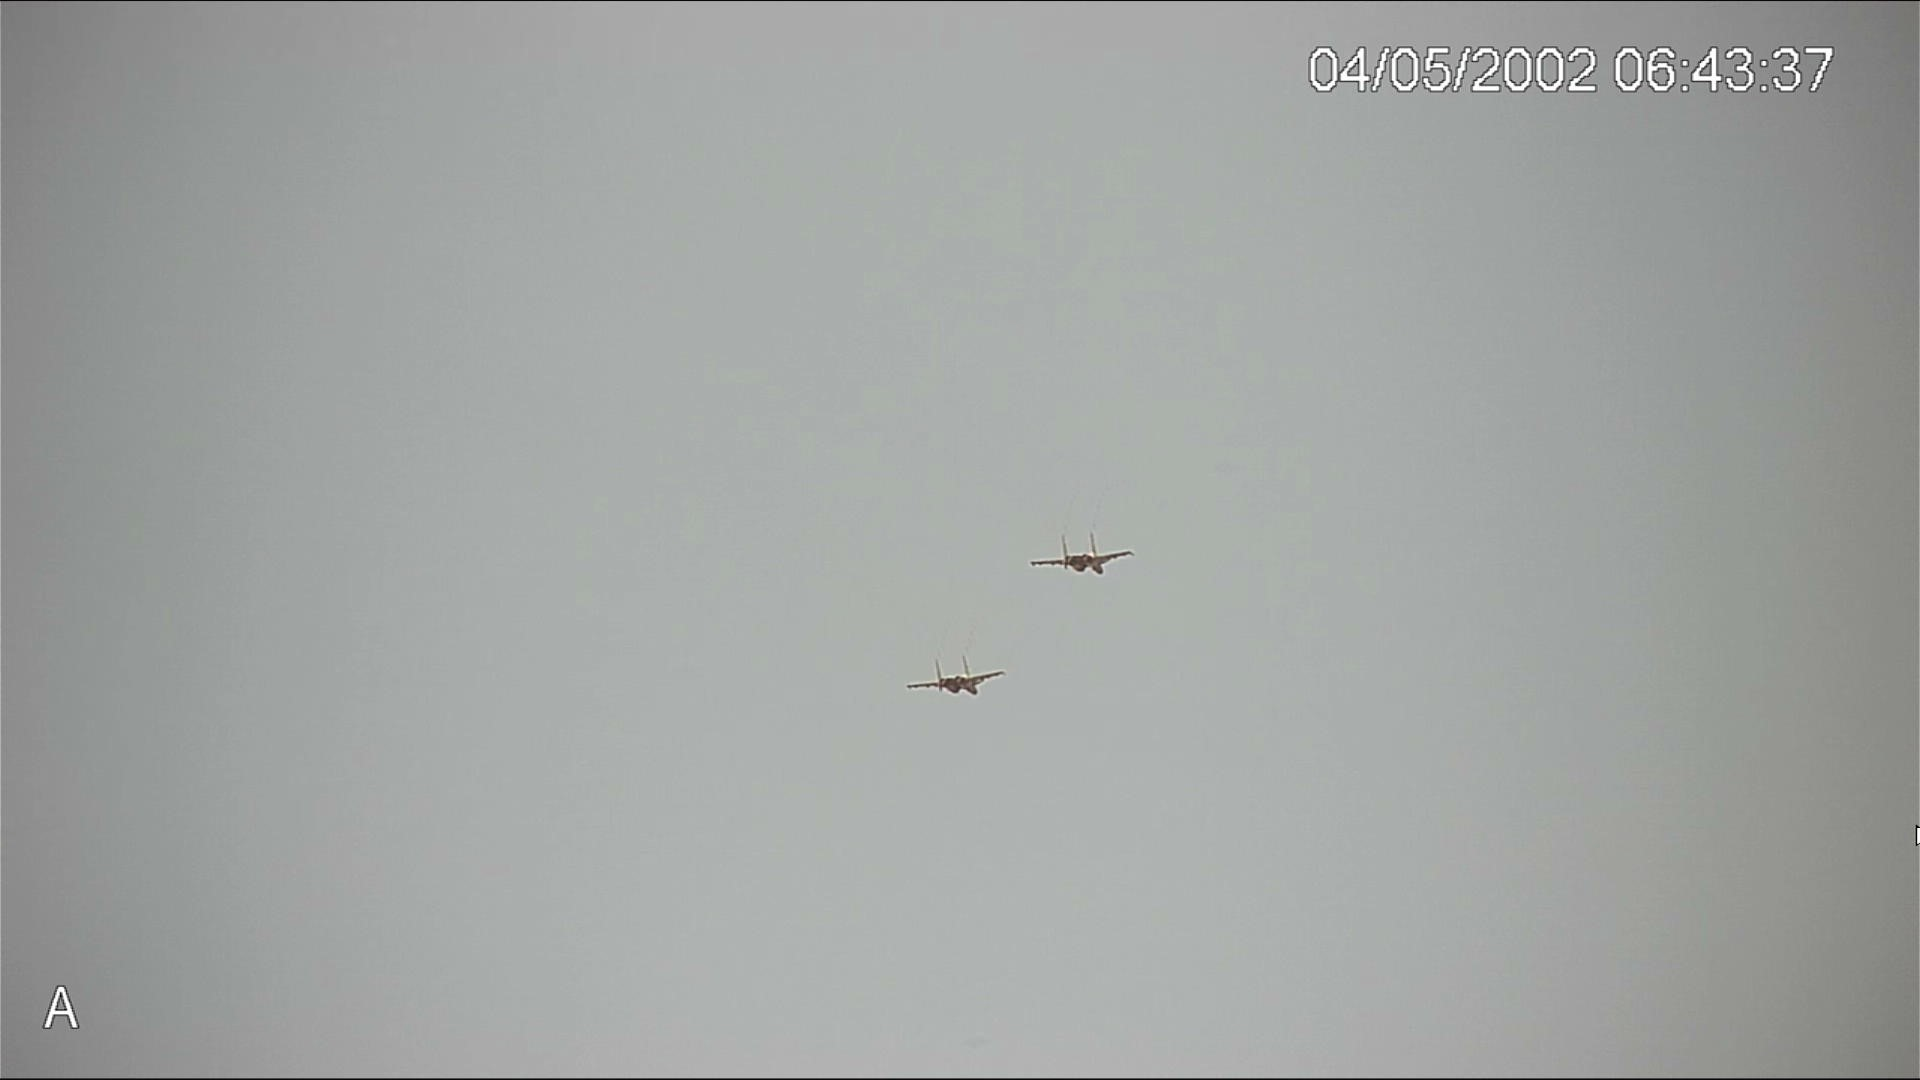SU_30: (902, 650, 1009, 705), (1029, 537, 1145, 579)
